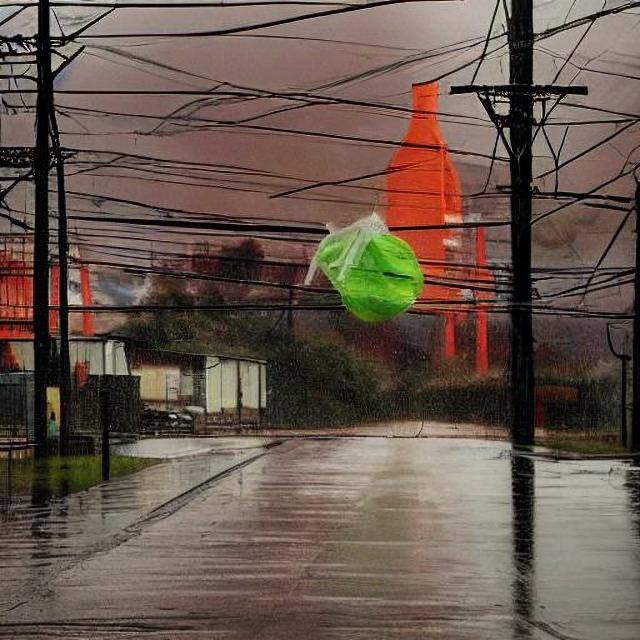balloon: (306, 217, 424, 322)
floating object: (306, 217, 426, 319)
